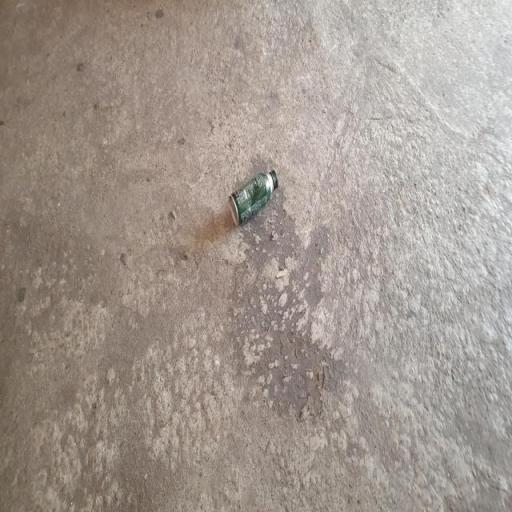metal: (212, 160, 290, 234)
